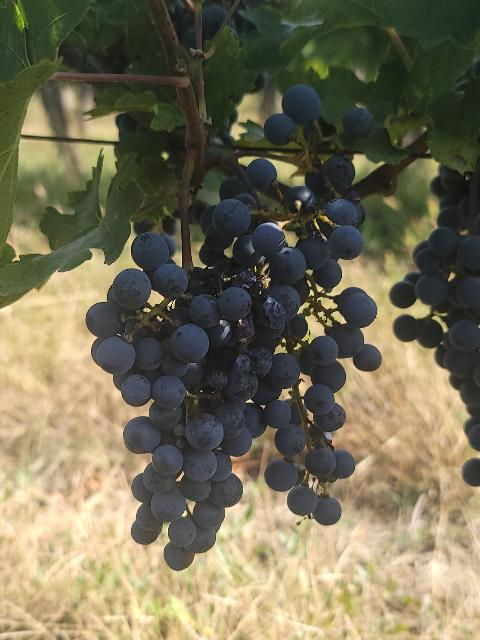grapes: (86, 231, 274, 570), (264, 290, 381, 521), (389, 160, 480, 451), (212, 199, 362, 330), (261, 354, 301, 390), (282, 186, 316, 214), (248, 159, 276, 191), (462, 458, 480, 486)
